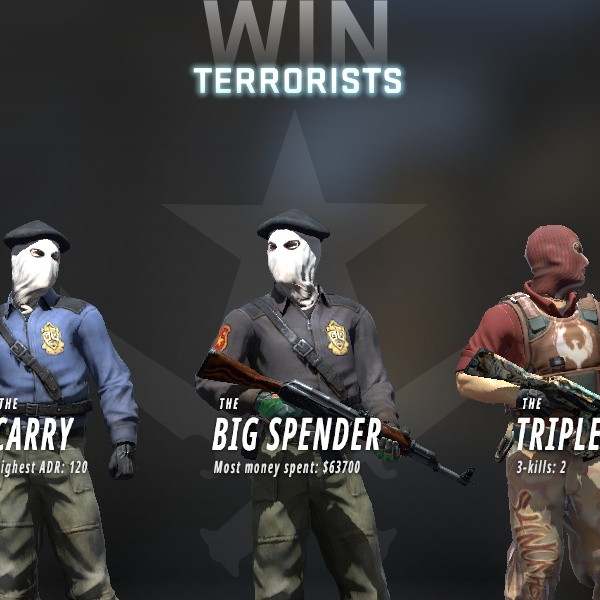t_body: (429, 201, 594, 600)
t_head: (498, 210, 600, 326)
